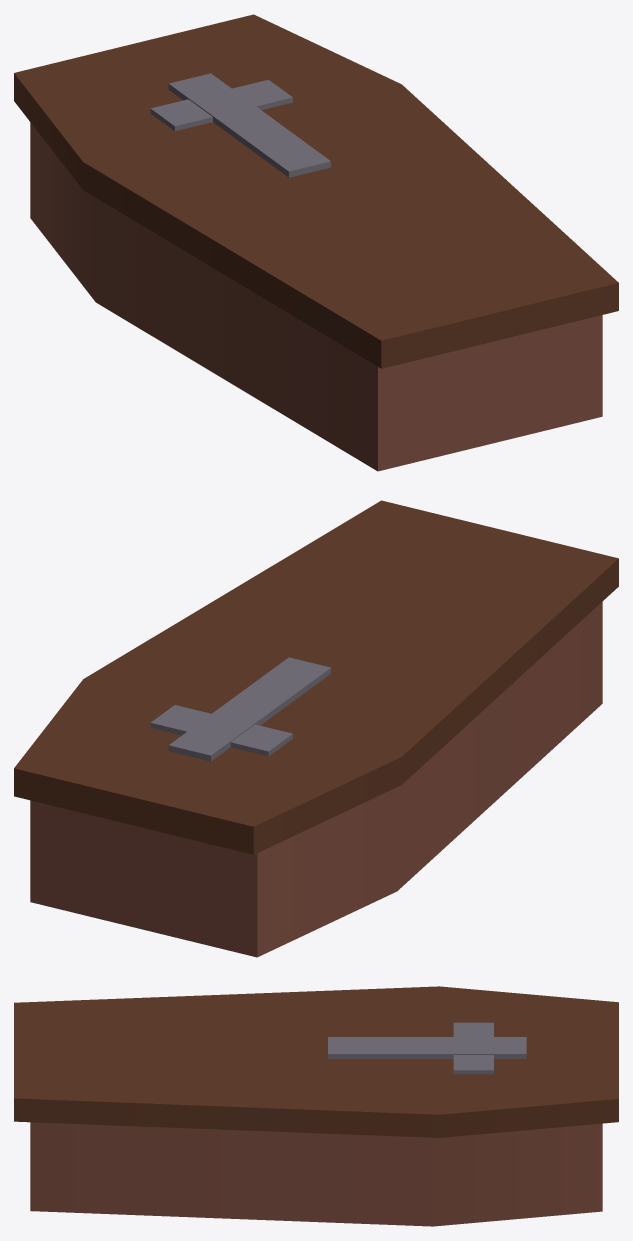
The model's file is Mesh_casket.fbx.
The picture shows the model from 3 angles, top to bottom: view 1: azimuth 30°, elevation 25°; view 2: azimuth 150°, elevation 25°; view 3: azimuth 270°, elevation 25°; orthographic projection. The views are drawn at different scales.
Parts seen in each view (by area): view 1: casket; view 2: casket; view 3: casket.
Boxes of the visible parts, left/top/right/bottom form: casket: left=14, top=14, right=618, bottom=471; casket: left=14, top=500, right=618, bottom=957; casket: left=14, top=986, right=618, bottom=1226.
Size of the model in its own units: 100 by 43.83 by 200.
1 material, 1 textured.
